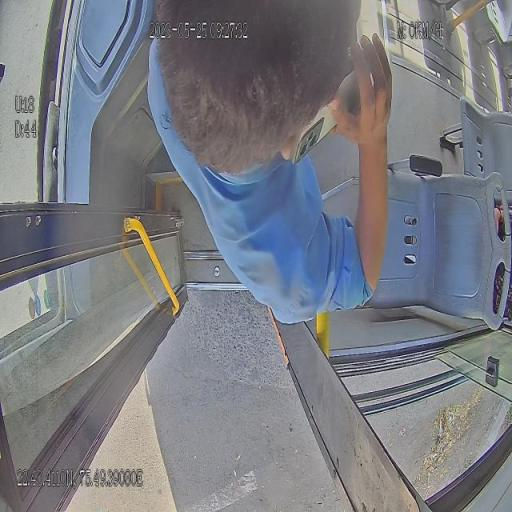persona: (146, 1, 393, 325)
